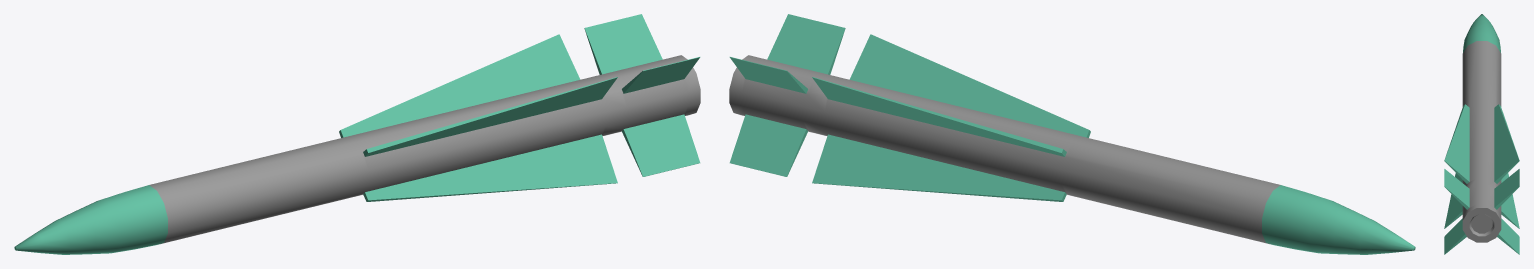
The model's file is AIM54Phoenix_New.FBX.
3 renders of one model, left to right at view 1: azimuth 30°, elevation 25°; view 2: azimuth 150°, elevation 25°; view 3: azimuth 270°, elevation 25°, orthographic. The views are drawn at different scales.
Visible parts, largest first — view 1: AIM54Phoenix_emmisive, AIM54Phoenix; view 2: AIM54Phoenix_emmisive, AIM54Phoenix; view 3: AIM54Phoenix, AIM54Phoenix_emmisive.
Part boxes in pixels (<box>): AIM54Phoenix_emmisive: <box>14,14,700,254</box>; AIM54Phoenix: <box>149,55,700,244</box>; AIM54Phoenix_emmisive: <box>729,14,1415,254</box>; AIM54Phoenix: <box>729,55,1280,244</box>; AIM54Phoenix: <box>1462,41,1501,242</box>; AIM54Phoenix_emmisive: <box>1444,14,1519,254</box>.
Bounding box in the file's own units: 56.63 × 8.6 × 8.6.
